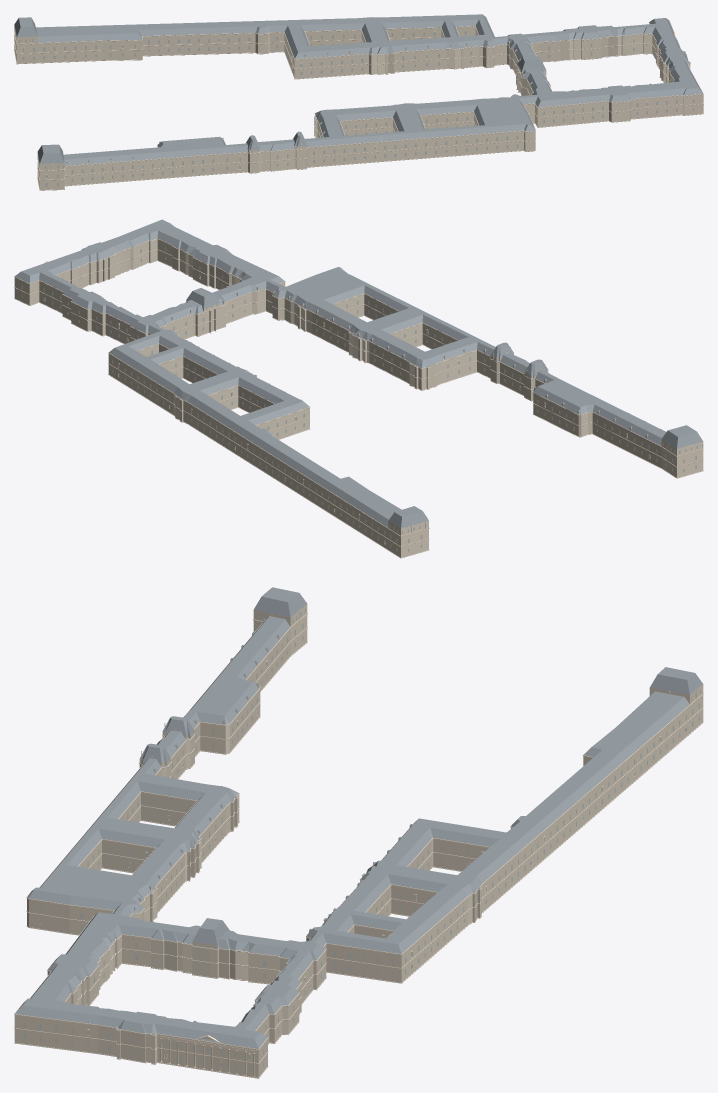
Rendered from detail.glb.
3 renders of one model, top to bottom at view 1: azimuth 30°, elevation 25°; view 2: azimuth 150°, elevation 25°; view 3: azimuth 270°, elevation 25°, orthographic. The views are drawn at different scales.
Visible parts, largest first — view 1: stone, roof, trim, window; view 2: roof, stone, trim, window; view 3: roof, stone, trim, window.
Part boxes in pixels (x1=…): stone: x1=14, y1=23, x2=703, y2=189; roof: x1=14, y1=14, x2=703, y2=165; trim: x1=14, y1=17, x2=703, y2=190; window: x1=14, y1=27, x2=694, y2=186; roof: x1=15, y1=219, x2=702, y2=528; stone: x1=14, y1=238, x2=703, y2=557; trim: x1=14, y1=238, x2=703, y2=558; window: x1=21, y1=247, x2=703, y2=551; roof: x1=15, y1=587, x2=702, y2=1048; stone: x1=14, y1=604, x2=703, y2=1077; trim: x1=14, y1=610, x2=703, y2=1078; window: x1=23, y1=608, x2=700, y2=1071.
Size of the model in its own units: 712 by 38 by 467.
